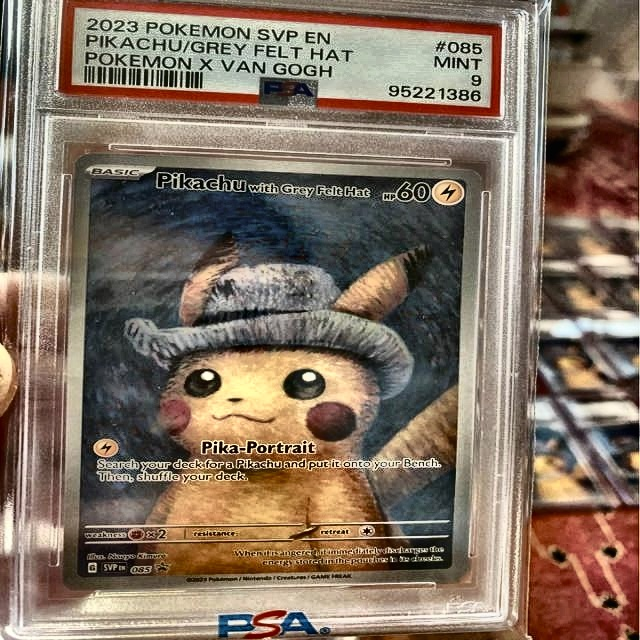card: (59, 151, 484, 593)
